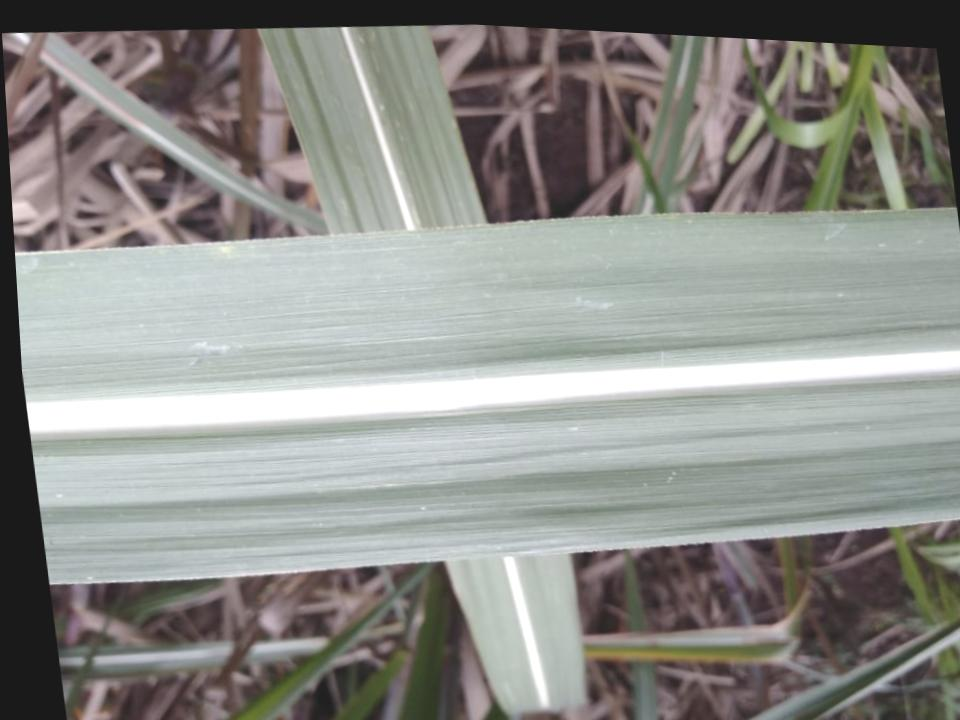Healthy: (15, 206, 960, 583), (257, 26, 484, 232), (445, 549, 585, 714)
